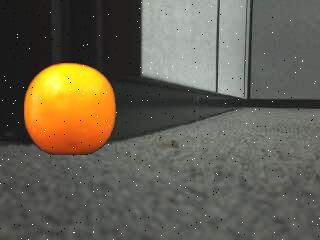Orange: (23, 62, 116, 154)
